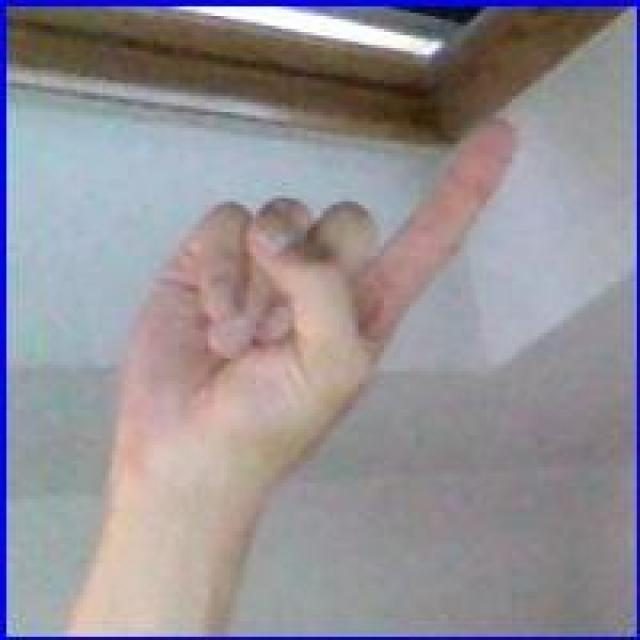Z: (119, 115, 522, 480)
